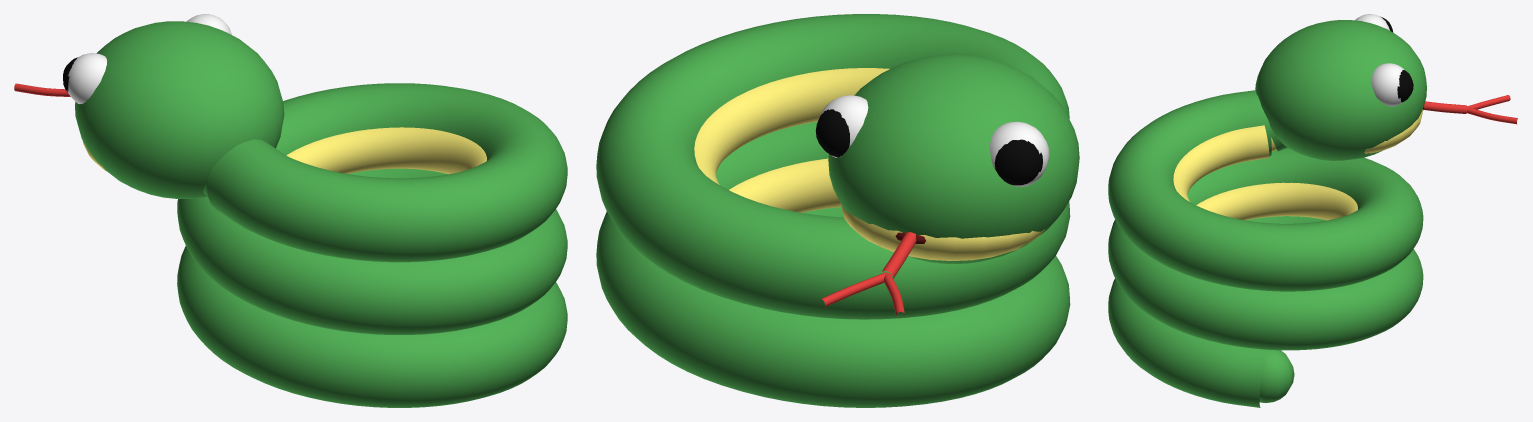
The model's file is ular.glb.
3 renders of one model, left to right at view 1: azimuth 30°, elevation 25°; view 2: azimuth 150°, elevation 25°; view 3: azimuth 270°, elevation 25°, orthographic. The views are drawn at different scales.
Bounding box in the file's own units: 1.29 × 0.9945 × 1.39.
